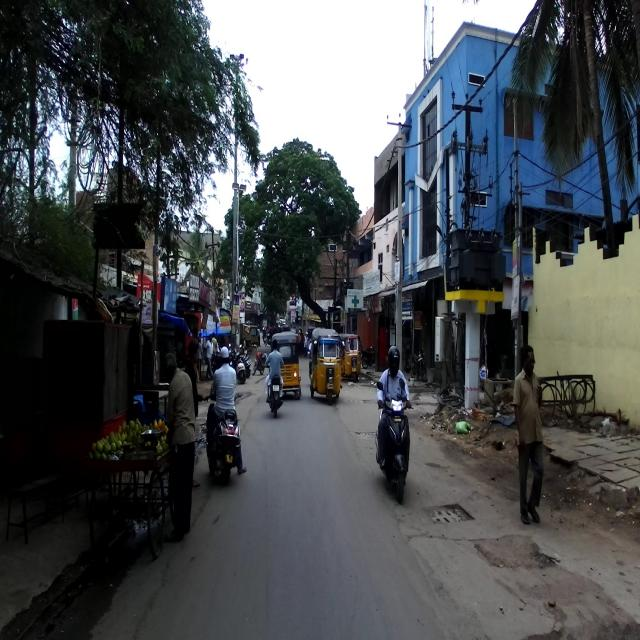autorickshaw: (307, 327, 345, 409), (338, 330, 364, 388)
motorcycle: (259, 355, 290, 416)
scooter: (374, 378, 414, 504), (202, 382, 239, 487)
